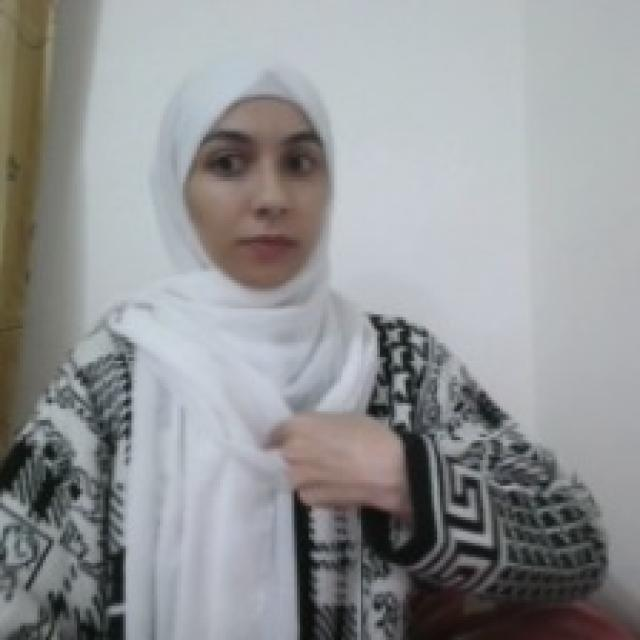me: (253, 402, 410, 522)
